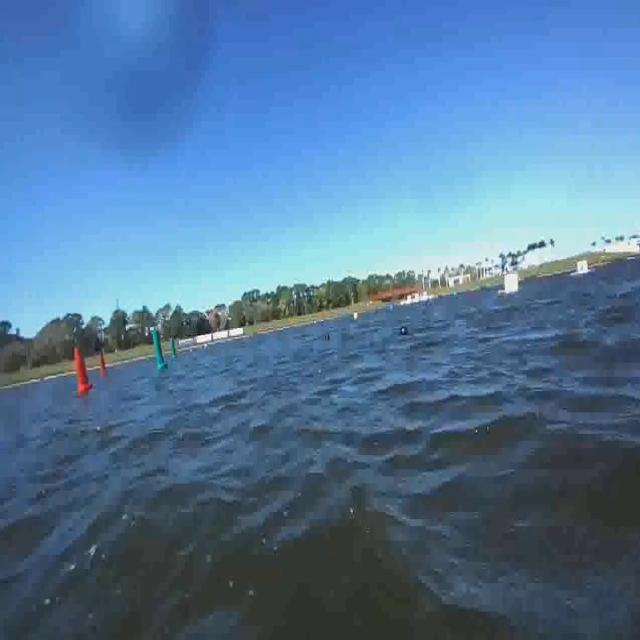black-buoy: (400, 327, 410, 338)
green-column-buoy: (150, 328, 166, 370), (170, 340, 178, 359)
red-column-buoy: (73, 346, 94, 394), (97, 352, 106, 377)
